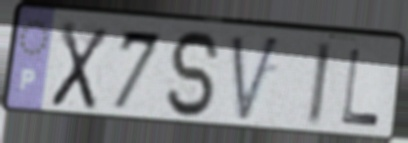7: (110, 27, 165, 112)
I: (304, 38, 335, 130)
L: (338, 46, 382, 129)
S: (165, 28, 225, 122)
V: (229, 33, 284, 127)
X: (47, 19, 111, 113)
